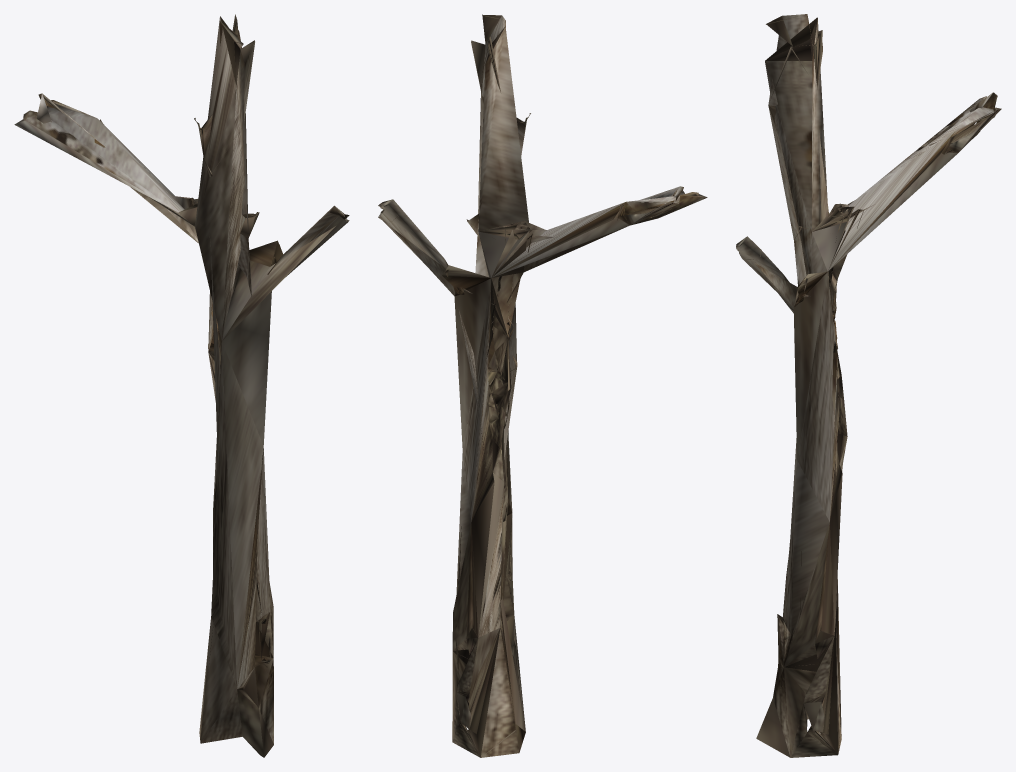
File: ash-a-lod2.gltf
3 renders of one model, left to right at view 1: azimuth 30°, elevation 25°; view 2: azimuth 210°, elevation 25°; view 3: azimuth 270°, elevation 25°, orthographic.
Parts seen in each view (by area): view 1: ash-a-lod2; view 2: ash-a-lod2; view 3: ash-a-lod2.
Boxes of the visible parts, box(x1,y1,x2,y2) form: ash-a-lod2: box(14, 14, 349, 757); ash-a-lod2: box(378, 14, 707, 757); ash-a-lod2: box(736, 14, 1001, 757).
Bounding box in the file's own units: 1.28 × 4.2 × 1.4.
Materials: 1 (1 with a texture image).
